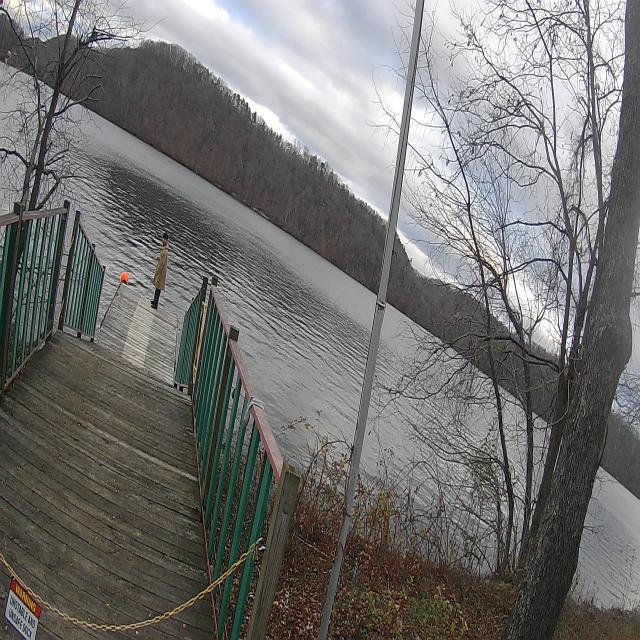Buoy: (120, 270, 129, 286)
